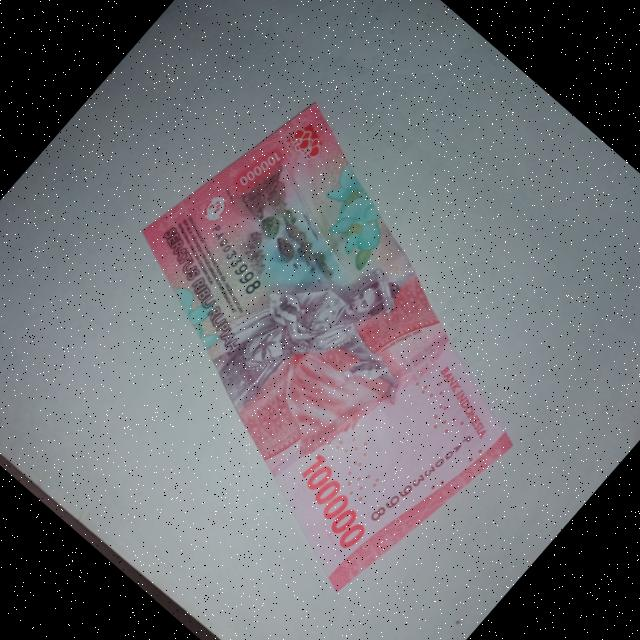100K: (42, 64, 602, 618)
